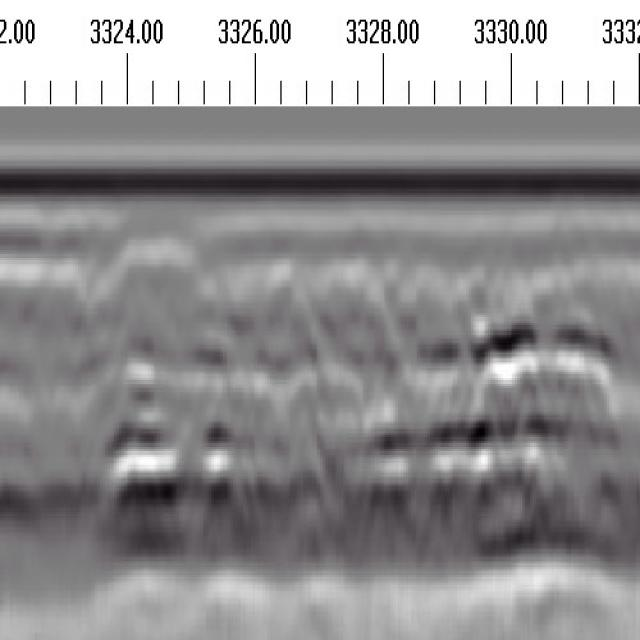loose: (361, 291, 622, 564), (93, 363, 243, 521)
